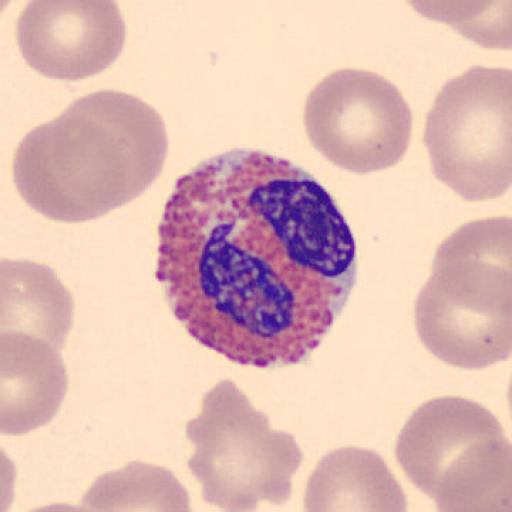RBC: (8, 108, 168, 225), (40, 87, 169, 223), (184, 378, 304, 512), (418, 215, 512, 372), (12, 115, 130, 225), (422, 64, 512, 204), (301, 65, 414, 176), (394, 394, 509, 502), (412, 264, 511, 371), (15, 0, 129, 82), (429, 213, 512, 320), (2, 256, 76, 359), (302, 443, 409, 512), (3, 329, 70, 437), (76, 458, 194, 512), (434, 437, 512, 512), (401, 0, 512, 52), (400, 0, 512, 34), (453, 0, 512, 51), (401, 0, 500, 25), (0, 445, 20, 512), (3, 500, 113, 512)
WBC: (154, 153, 360, 369)
